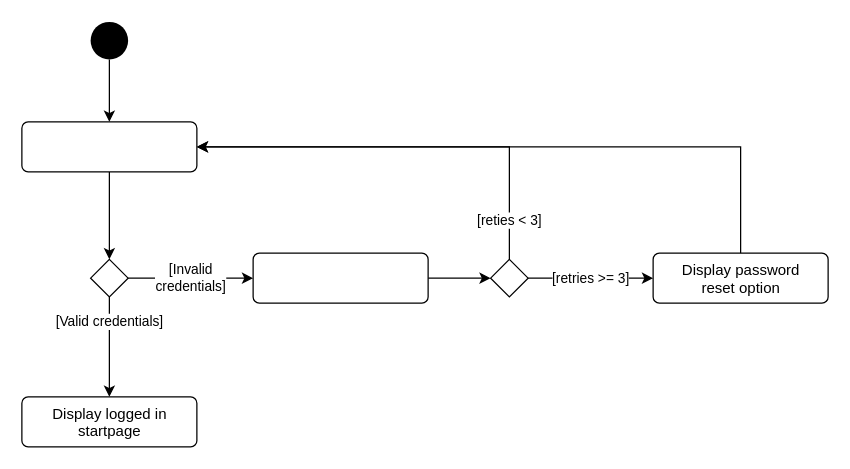
Some shapes in this 850 by 469 pixel diagram are drawn without their labels. Here are the shapes that lost their labels. From the top down, the centre of each, then its label:
At point 109,146: "Provide username and password".
At point 340,277: "Display error message".
